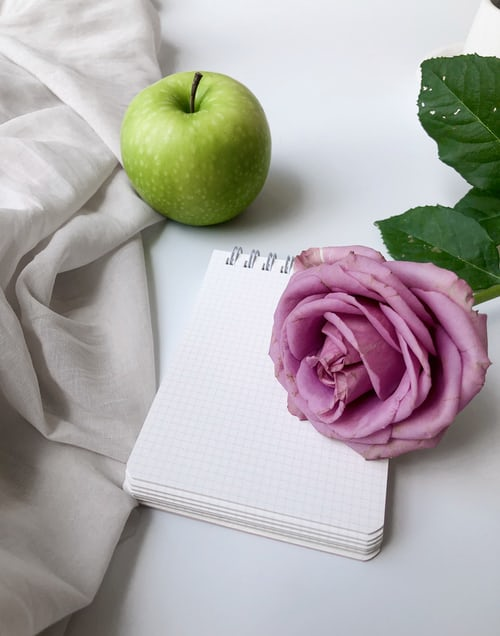apple: (116, 66, 272, 231)
